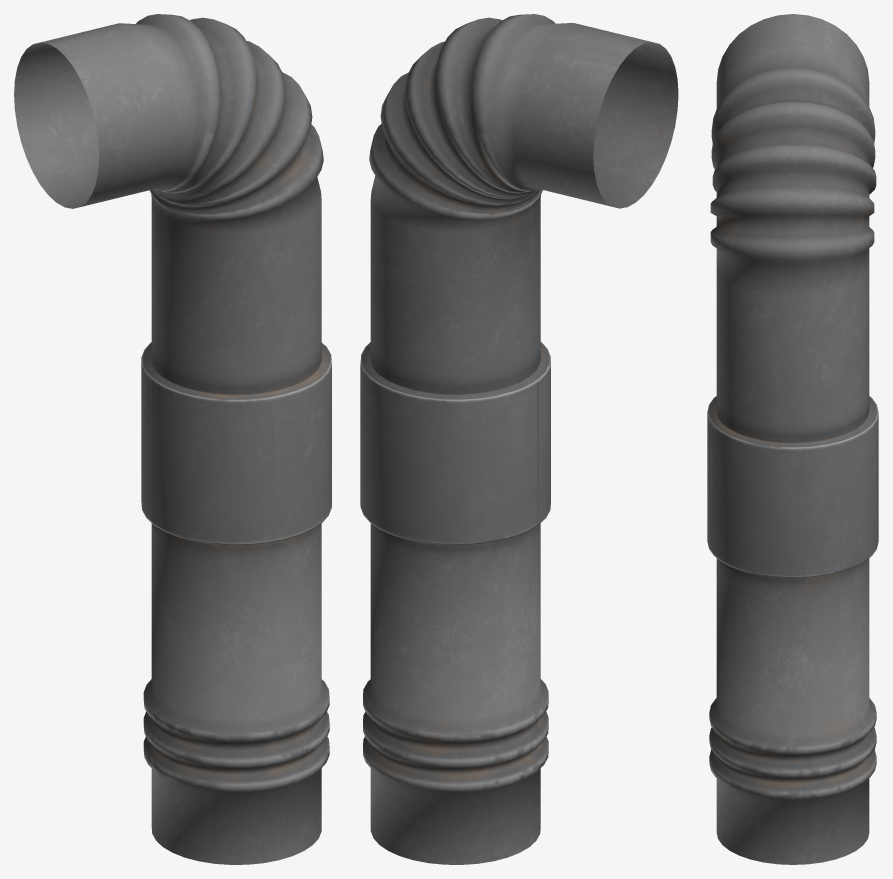
Rendered from pipe_03.gltf.
The picture shows the model from 3 angles, left to right: view 1: azimuth 30°, elevation 25°; view 2: azimuth 150°, elevation 25°; view 3: azimuth 270°, elevation 25°; orthographic projection. The views are drawn at different scales.
Visible parts, largest first — view 1: pipe_03; view 2: pipe_03; view 3: pipe_03.
Part boxes in pixels (left/top/right/bottom): pipe_03: left=14, top=14, right=331, bottom=864; pipe_03: left=360, top=14, right=678, bottom=864; pipe_03: left=707, top=14, right=878, bottom=864.
Bounding box in the file's own units: 1.07 × 3.21 × 0.673.
1 material, 1 textured.
